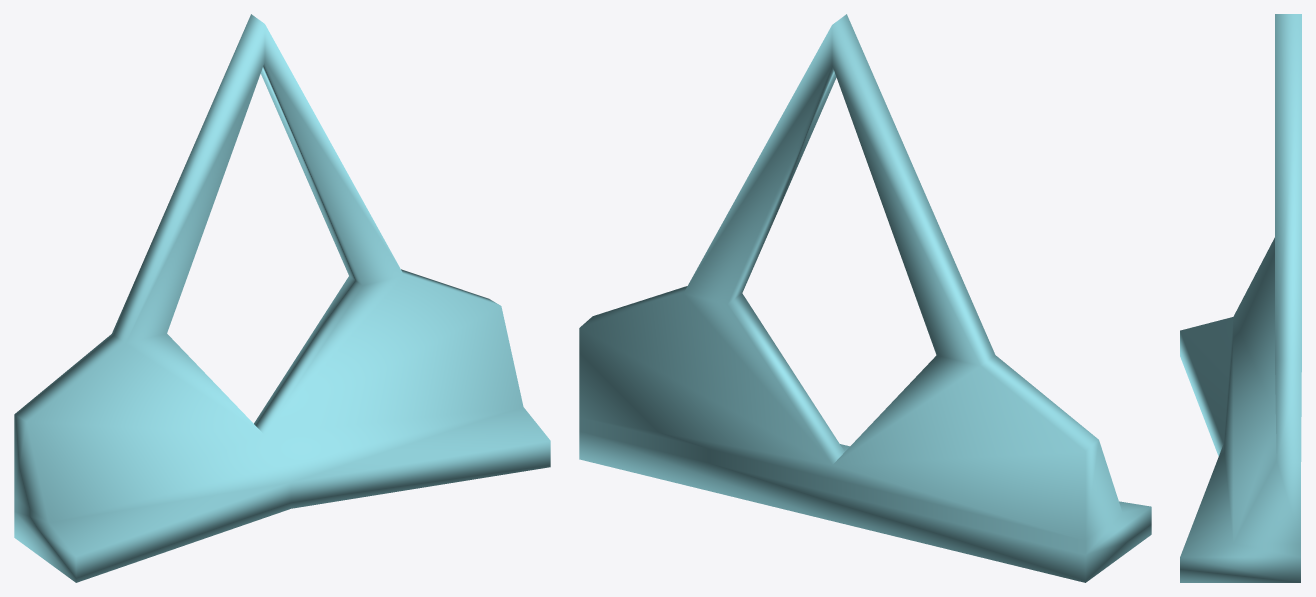
Rendered from SmallDecor.fbx.
3 renders of one model, left to right at view 1: azimuth 30°, elevation 25°; view 2: azimuth 150°, elevation 25°; view 3: azimuth 270°, elevation 25°, orthographic. The views are drawn at different scales.
Visible parts, largest first — view 1: Base.002; view 2: Base.002; view 3: Base.002.
Part boxes in pixels (x1,y1,x2,y2): Base.002: (14,14,550,582); Base.002: (579,14,1151,582); Base.002: (1180,14,1301,582).
Bounding box in the file's own units: 1 × 0.9376 × 0.2272.
